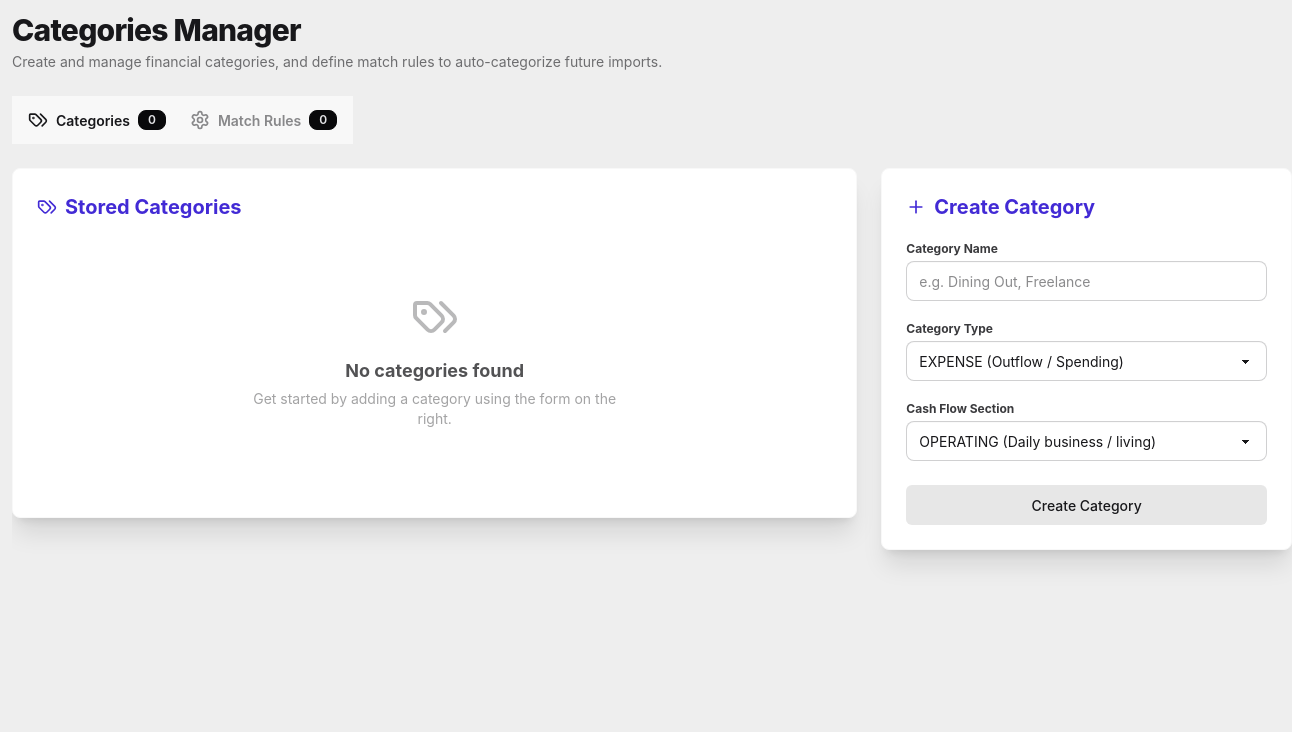
Test: CategoriesClient — creating a category › shows error toast when createCategory fails
Type "Duplicate" into the field with placeholder "e.g. Dining Out, Freelance".
click(1087, 281); type("Duplicate")  # box [906,261,1267,301]
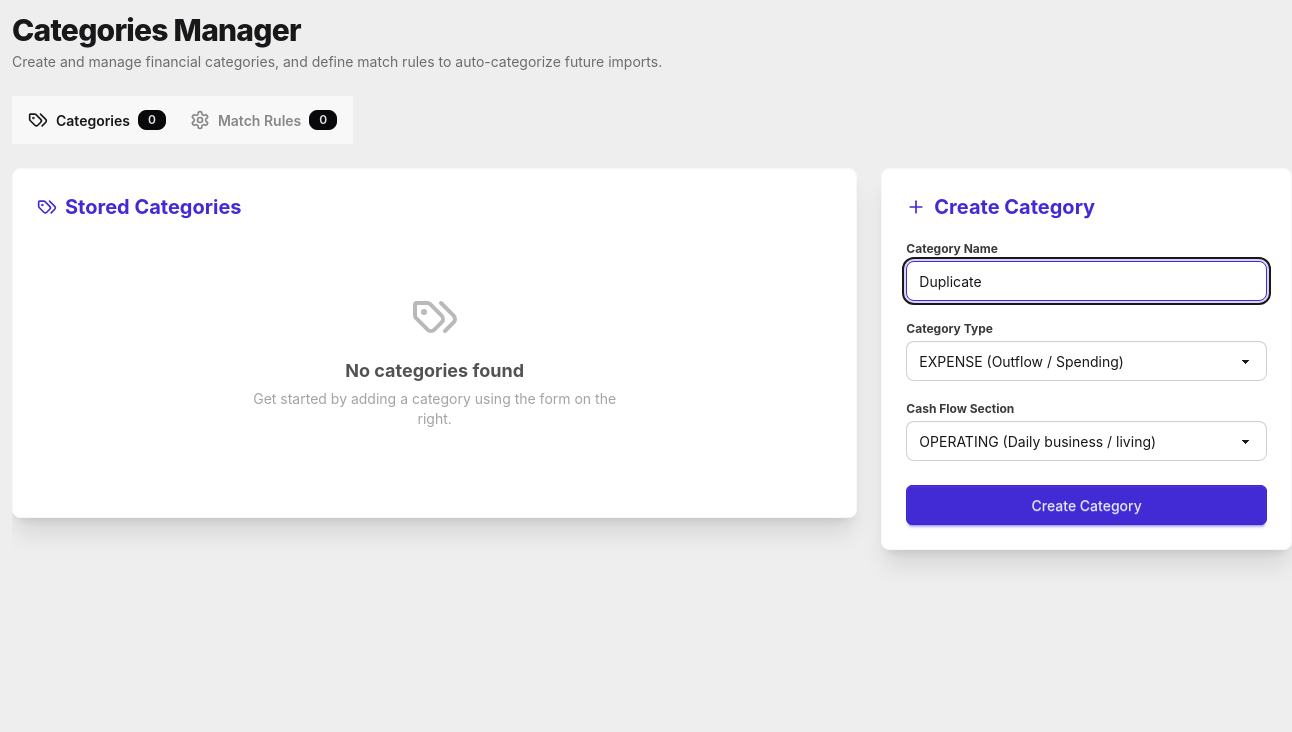
Click the button "Create Category".
click(1087, 505)  # box [906,485,1267,525]
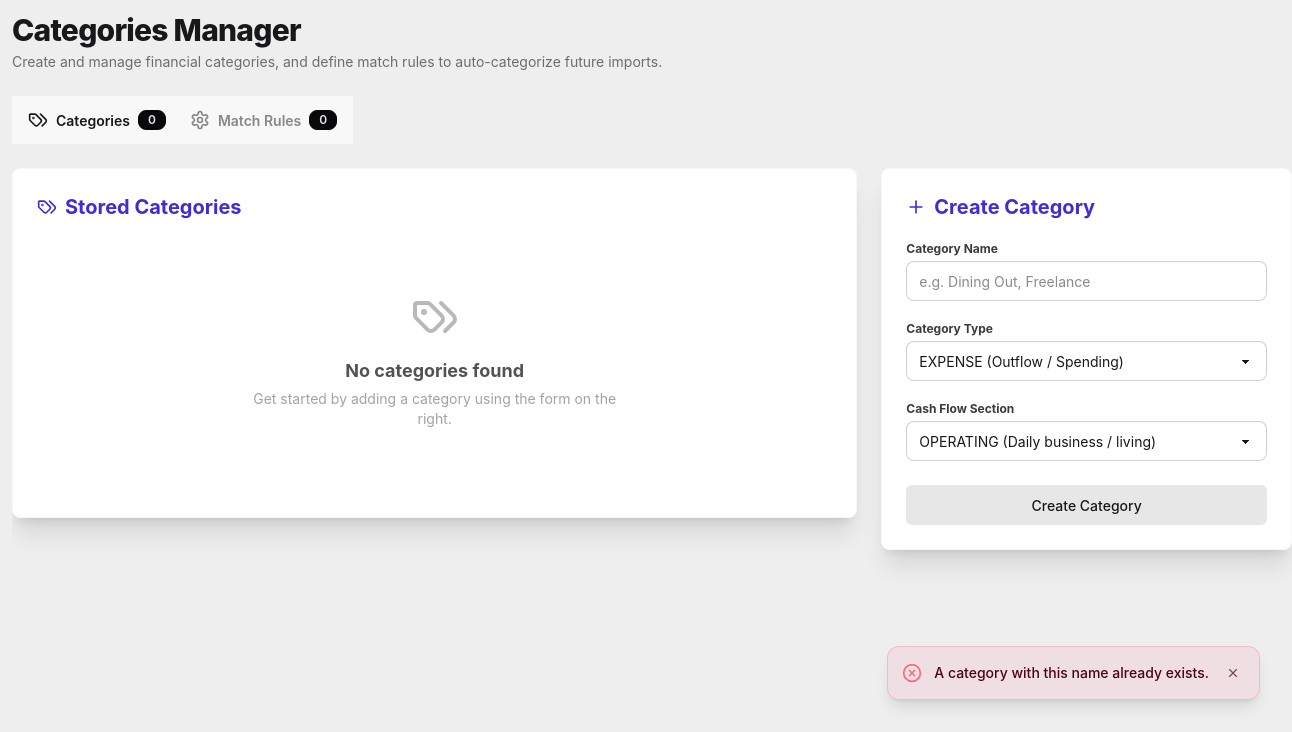
Expected: the text "A category with this name already exists." is shown, [934,663,1209,683]
